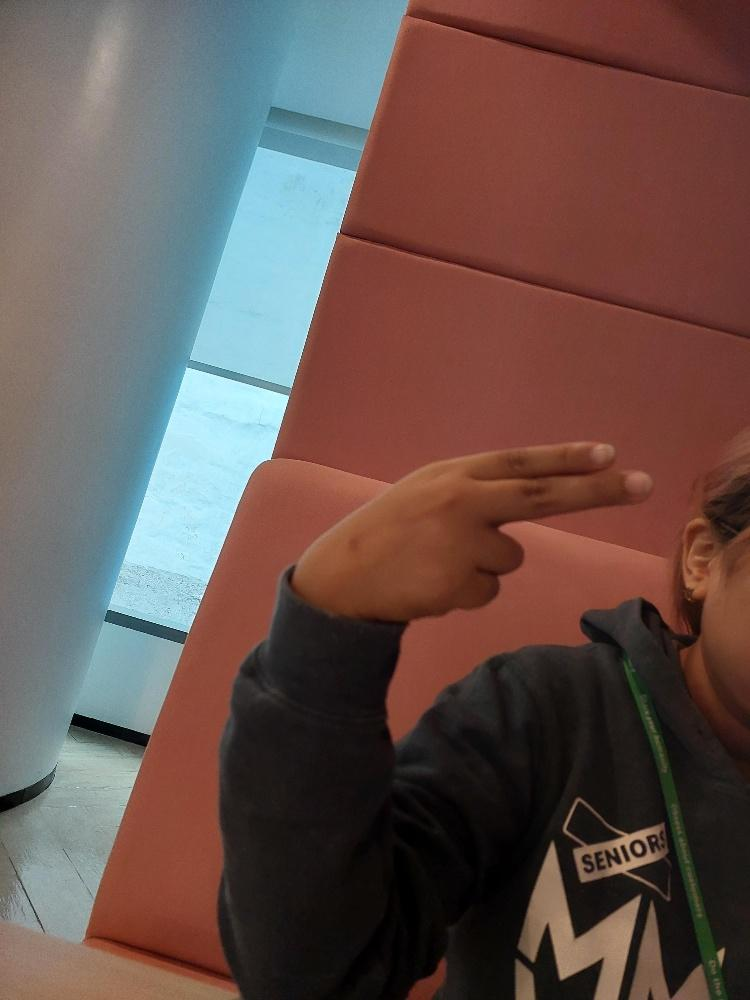h: (272, 432, 656, 632)
